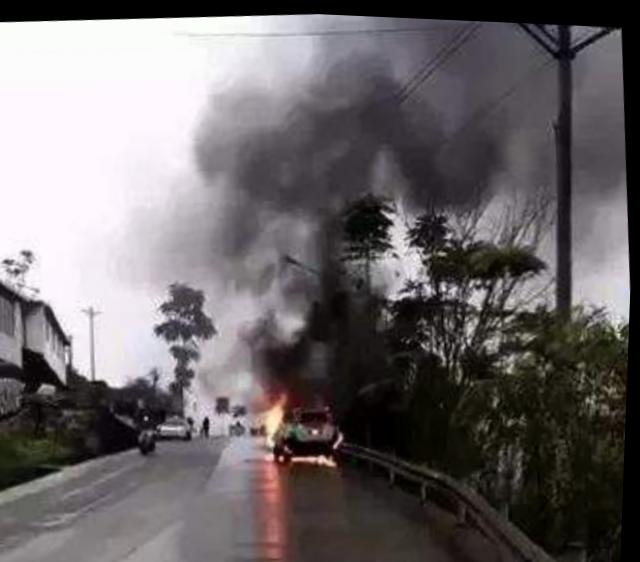fire: (259, 379, 352, 472)
